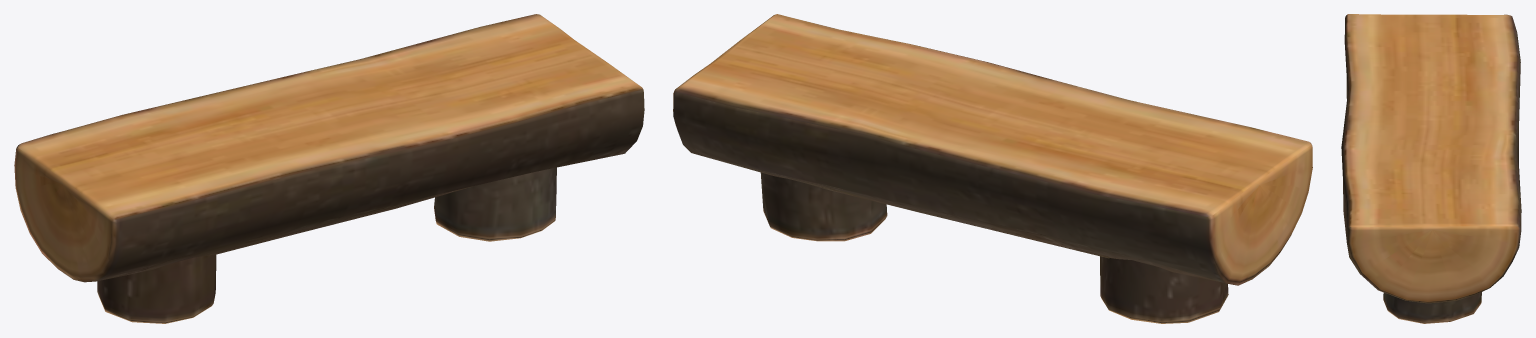
The picture shows the model from 3 angles, left to right: view 1: azimuth 30°, elevation 25°; view 2: azimuth 150°, elevation 25°; view 3: azimuth 270°, elevation 25°; orthographic projection. The views are drawn at different scales.
Size of the model in its own units: 17.77 by 4.5 by 6.31.
1 material, 1 textured.
